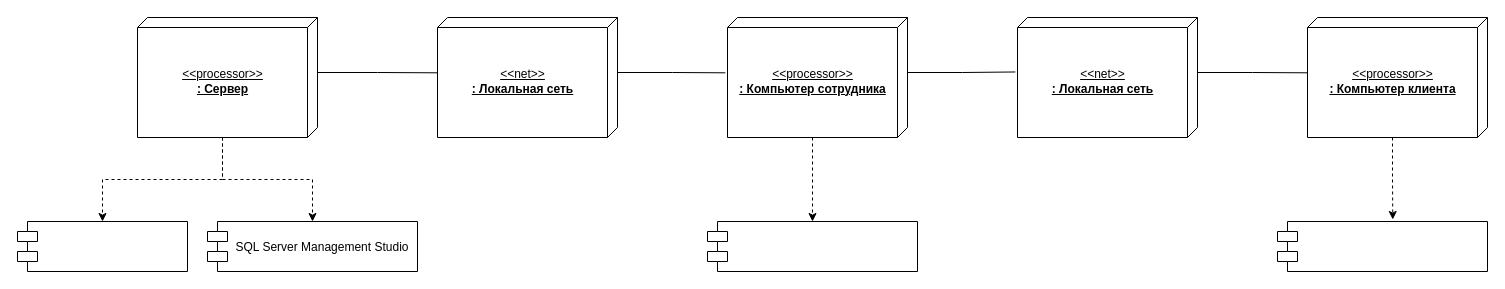
Image size: 1505x289. Some labels were removed from this diagram. The centre of each missing label's shape, as x and y in pixels:
ClientApp.exe: the point at 1382,246
ServerApp.exe: the point at 812,246
SQL Server 2019.exe: the point at 102,246
